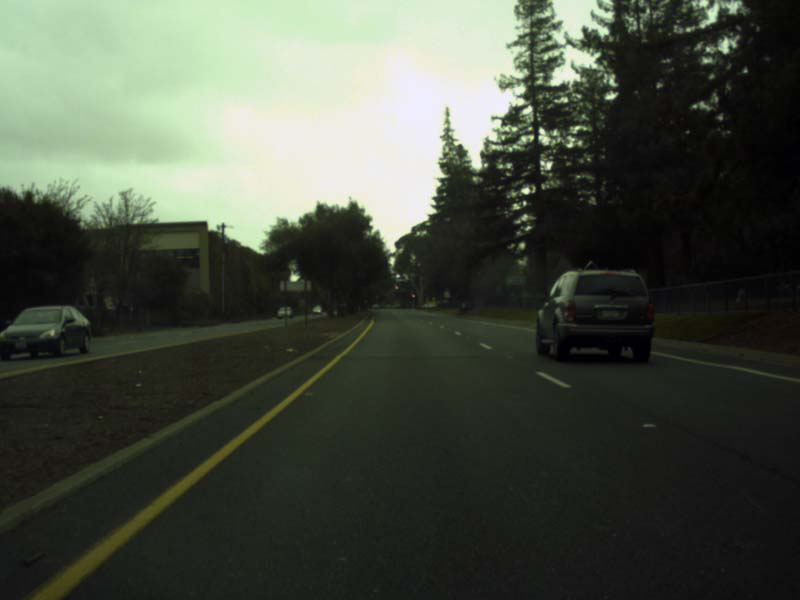Red: (409, 290, 416, 301), (393, 282, 399, 292), (374, 292, 378, 300)
